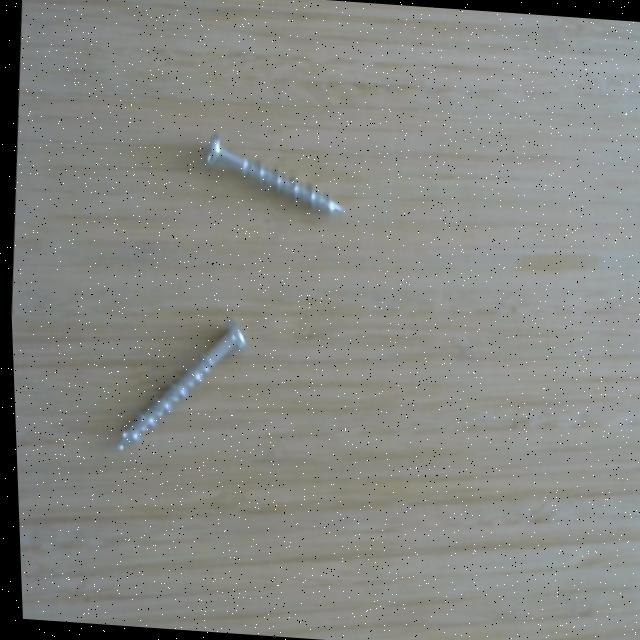Medium screw: (103, 308, 258, 466), (196, 124, 351, 224)
